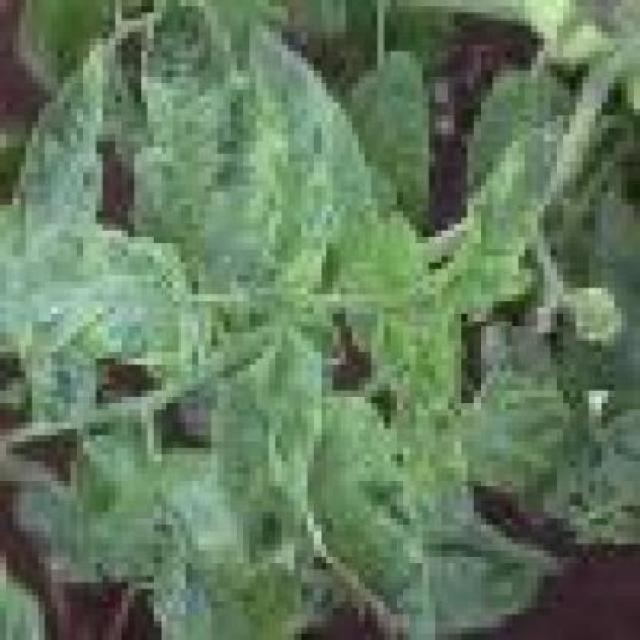Healthy Leaf: (313, 384, 449, 633), (26, 212, 206, 372), (435, 109, 563, 314), (218, 319, 319, 576), (250, 25, 339, 288), (154, 6, 237, 243), (397, 327, 468, 538), (461, 378, 582, 487), (378, 210, 422, 308), (103, 486, 160, 551)
